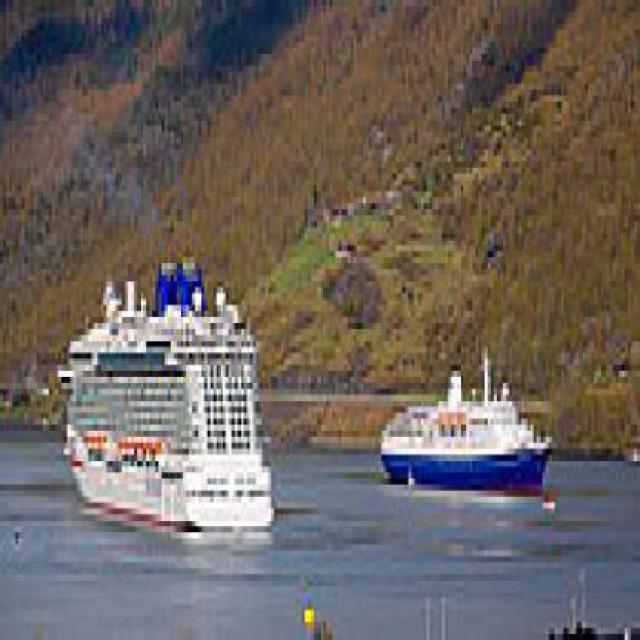cruise: (52, 247, 288, 558), (372, 342, 565, 516)
